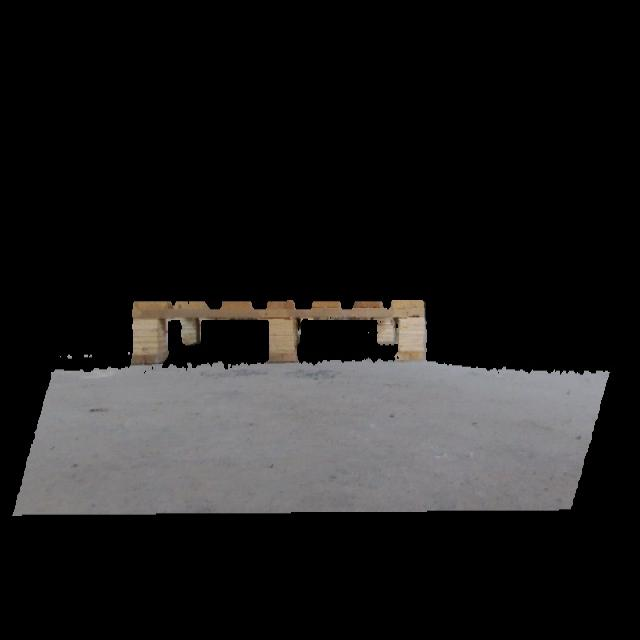block: (129, 298, 166, 370), (267, 311, 298, 364), (401, 312, 429, 366), (179, 311, 206, 346), (373, 311, 396, 348)
front: (130, 295, 427, 378)
